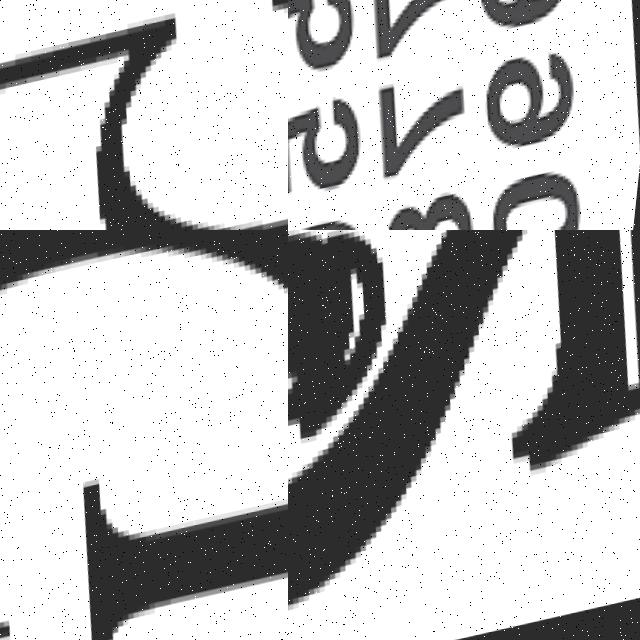0: (482, 165, 599, 230)
2: (288, 230, 640, 640)
5: (0, 0, 288, 230), (288, 90, 380, 208), (288, 0, 370, 90)
7: (369, 65, 485, 190), (357, 0, 474, 71)
8: (380, 192, 496, 230)
9: (476, 48, 589, 165), (465, 0, 581, 40)
G: (0, 230, 288, 640)
